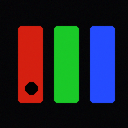2 circle: (25, 82, 37, 94)
